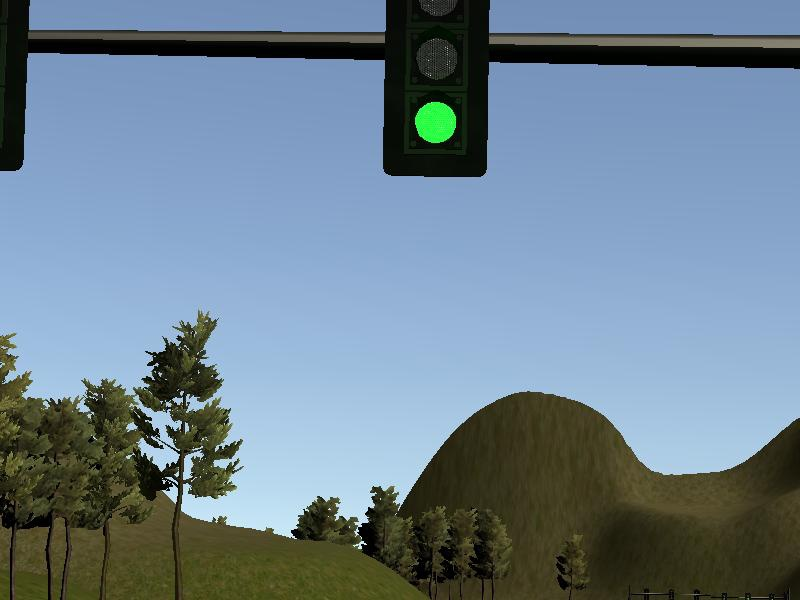green_light: (387, 1, 489, 180)
